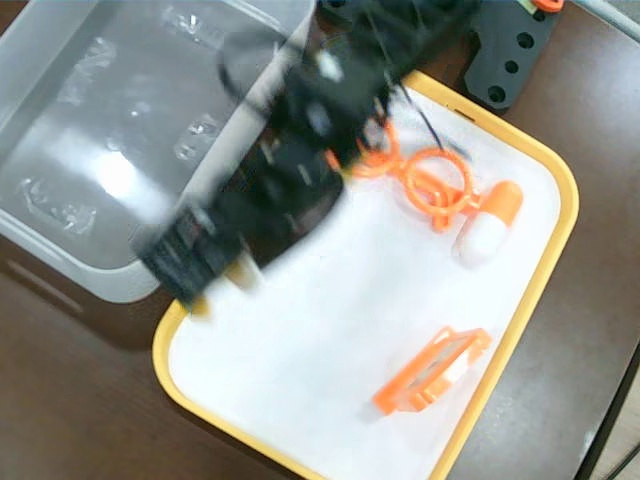pill: (453, 181, 525, 266)
